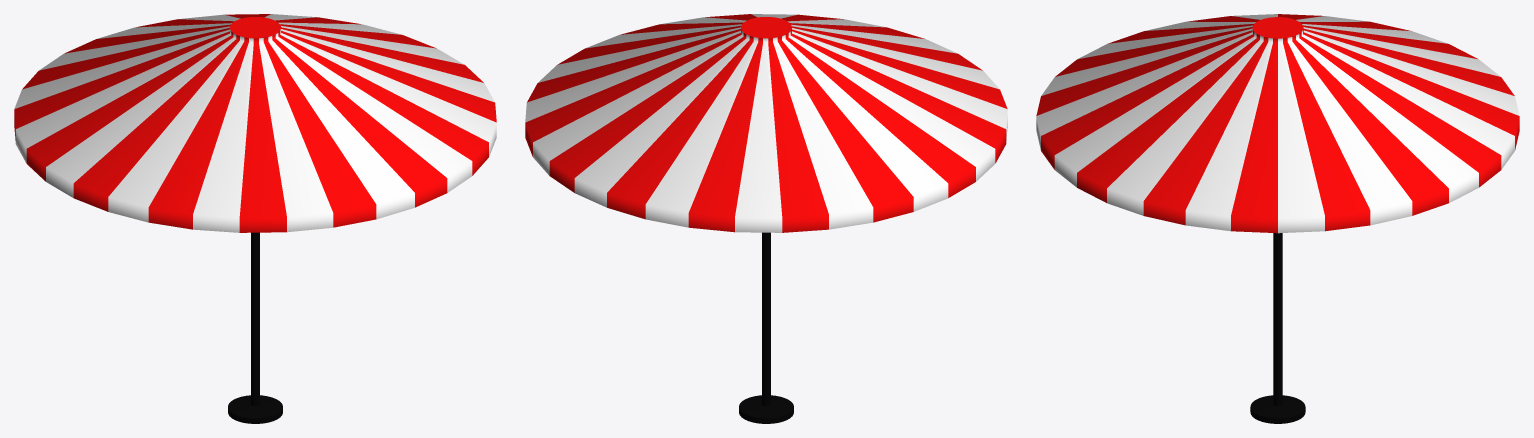
File: parasolrouge.fbx
3 renders of one model, left to right at view 1: azimuth 30°, elevation 25°; view 2: azimuth 150°, elevation 25°; view 3: azimuth 270°, elevation 25°, orthographic.
Visible parts, largest first — view 1: parasolrouge; view 2: parasolrouge; view 3: parasolrouge.
Boxes of the visible parts, x1,y1,x2,y2 form: parasolrouge: (14,14,496,423); parasolrouge: (525,14,1007,423); parasolrouge: (1036,14,1519,423).
Size of the model in its own units: 1002 by 879 by 1002.
